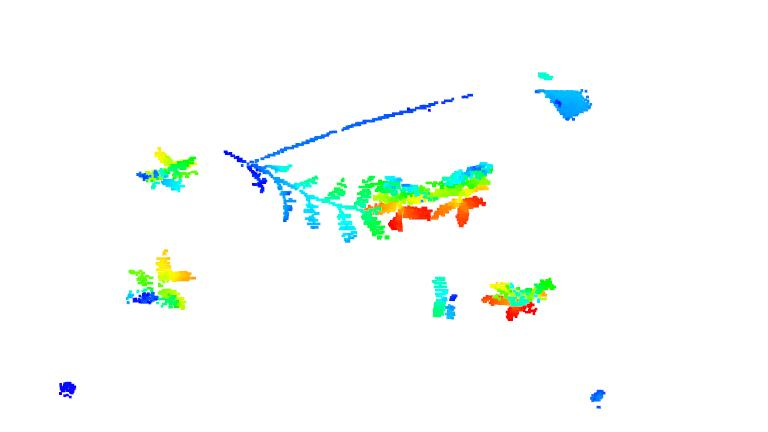chickpea: (241, 156, 390, 251), (122, 247, 196, 320), (431, 162, 507, 230), (362, 177, 437, 242), (123, 144, 199, 195), (481, 275, 557, 325), (428, 273, 465, 324)
